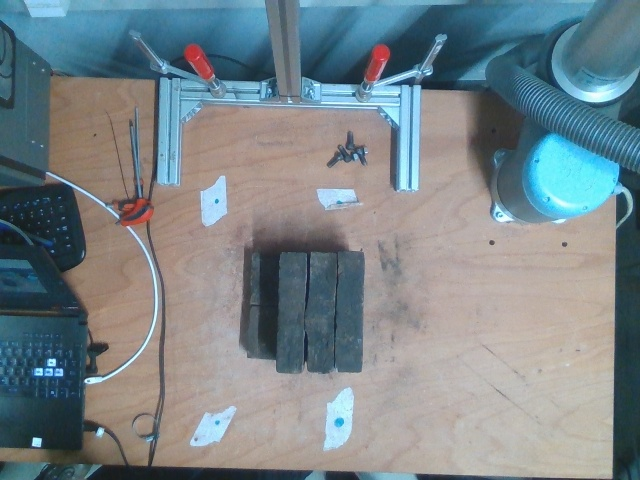brick-side: (277, 251, 304, 374), (336, 251, 362, 373), (310, 253, 334, 374)
